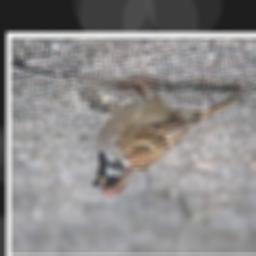Sparrow: (86, 75, 245, 202)
